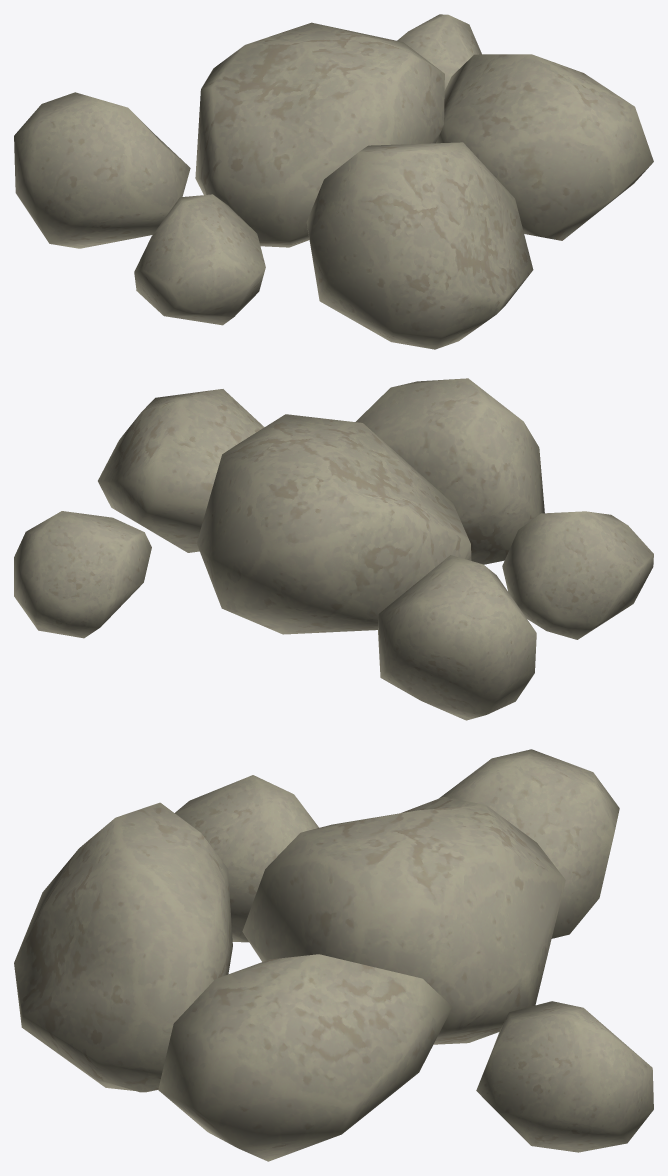
Rendered from MSH_fwOF_Stone_Group_02.fbx.
3 renders of one model, top to bottom at view 1: azimuth 30°, elevation 25°; view 2: azimuth 150°, elevation 25°; view 3: azimuth 270°, elevation 25°, orthographic. The views are drawn at different scales.
Visible parts, largest first — view 1: MSH_fwOF_Stone_Group_02; view 2: MSH_fwOF_Stone_Group_02; view 3: MSH_fwOF_Stone_Group_02.
Boxes of the visible parts, box(x1,y1,x2,y2) form: MSH_fwOF_Stone_Group_02: box(14, 14, 653, 349); MSH_fwOF_Stone_Group_02: box(14, 378, 653, 720); MSH_fwOF_Stone_Group_02: box(14, 749, 653, 1161).
Size of the model in its own units: 0.8428 by 0.3348 by 0.7453.
